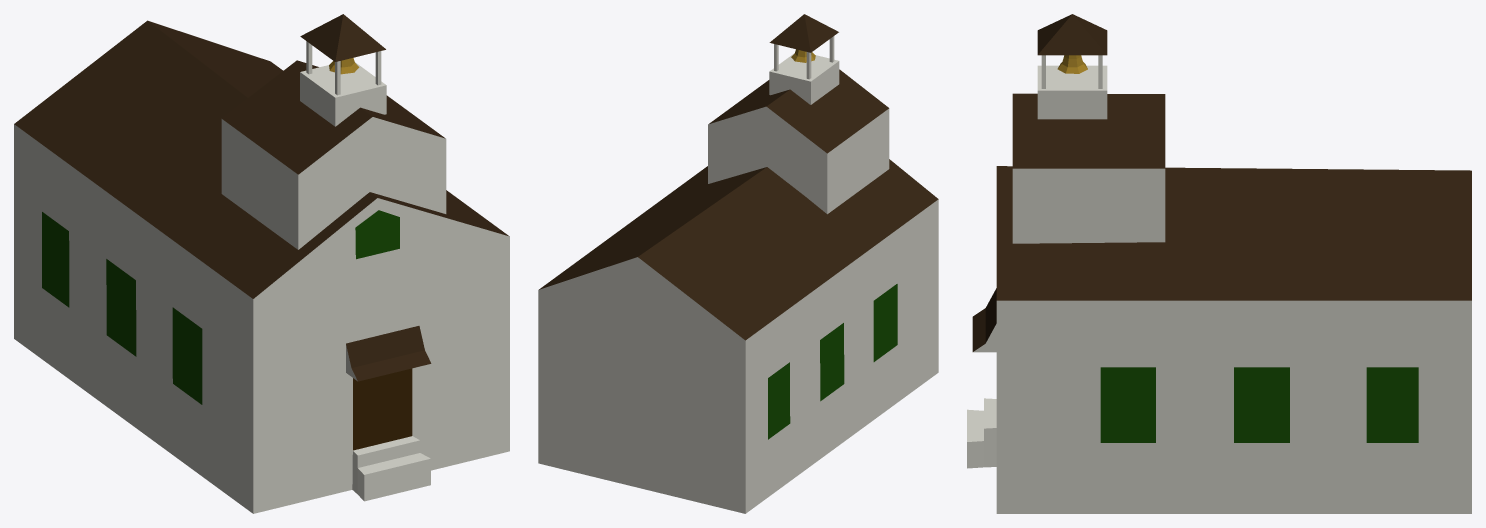
File: church.glb
3 views of the same model, side by side, from view 1: azimuth 30°, elevation 25°; view 2: azimuth 150°, elevation 25°; view 3: azimuth 270°, elevation 25° (orthographic). The views are drawn at different scales.
Visible parts, largest first — view 1: Cube.023; view 2: Cube.023; view 3: Cube.023.
Boxes of the visible parts, box(x1,y1,x2,y2) form: Cube.023: box(14, 14, 509, 513); Cube.023: box(538, 14, 938, 513); Cube.023: box(967, 14, 1471, 513).
Bounding box in the file's own units: 5.3 × 8.71 × 9.1.
